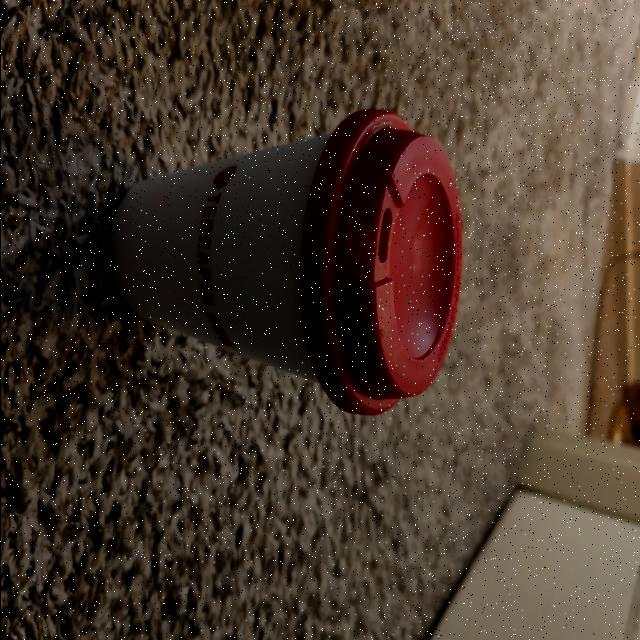mug: (107, 125, 457, 405)
